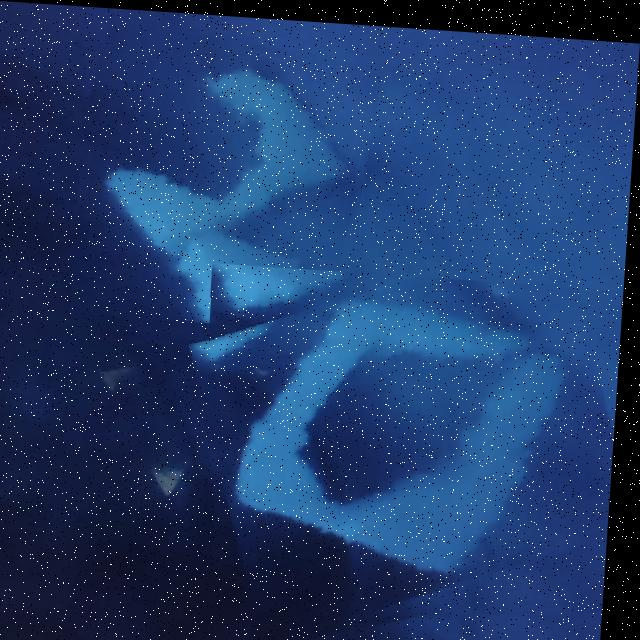thermocoal: (197, 259, 627, 640), (74, 24, 386, 327)
